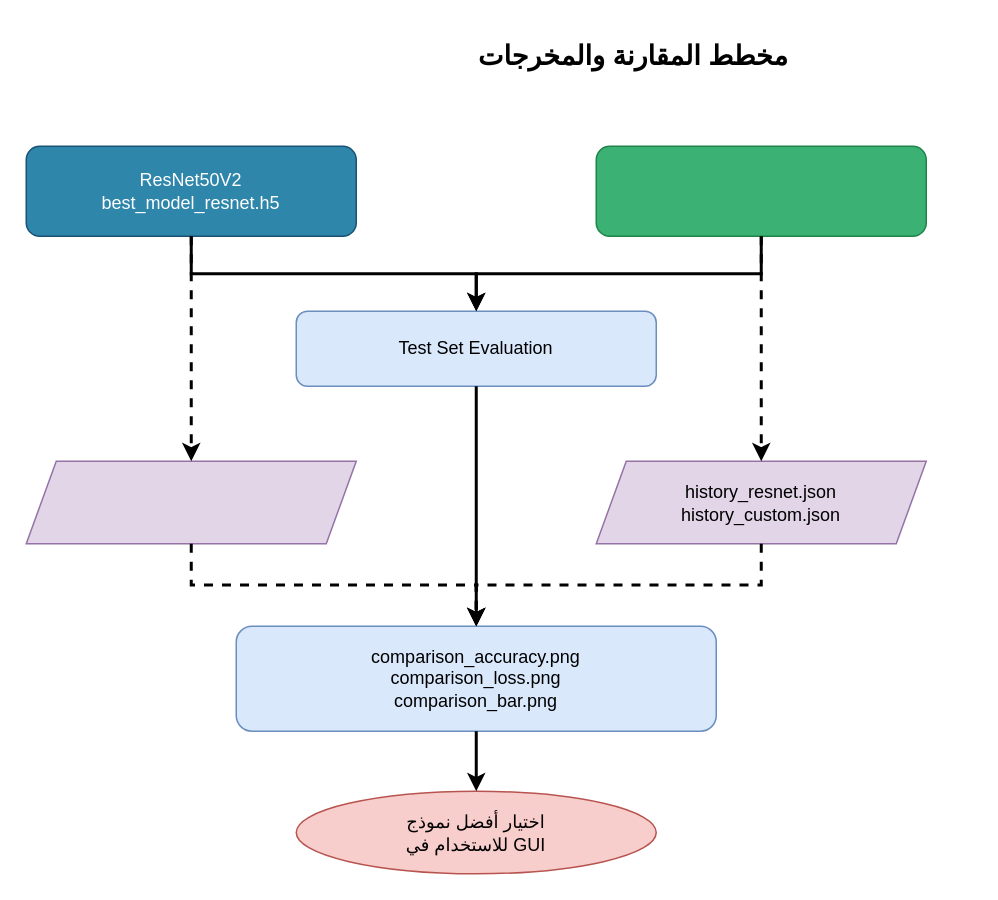
The diagram is 998 pixels wide and 900 high, and some of its shapes have lost their labels. The shapes that lost their labels are listed below. From the top down, each one's centre as x and y in pixels, then its label:
At point (760, 190): "Custom CNN best_model_custom.h5".
At point (190, 502): "curves_resnet.png curves_custom.png".
